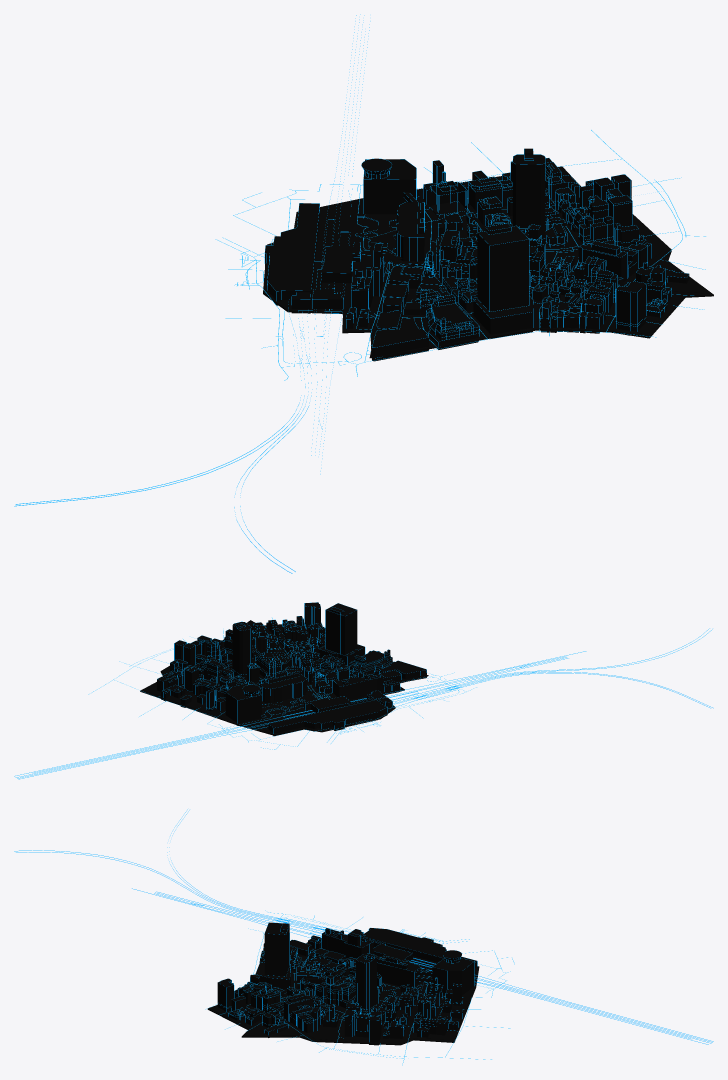
File: Kashiwa_3Dmap.glb
3 views of the same model, one above another, from view 1: azimuth 30°, elevation 25°; view 2: azimuth 150°, elevation 25°; view 3: azimuth 270°, elevation 25° (orthographic). The views are drawn at different scales.
Visible parts, largest first — view 1: 3D_mesh, plane, 3D_wier, Ways:highway, main_street, Ways:railway, space, deck01; view 2: 3D_mesh, Ways:railway, 3D_wier, plane, Ways:highway, deck01, space, main_street; view 3: 3D_mesh, Ways:railway, 3D_wier, plane, main_street, Ways:highway, space.
Boxes of the visible parts, bbox=[...] form: 3D_mesh: bbox=[265, 148, 689, 361]; plane: bbox=[263, 166, 713, 359]; 3D_wier: bbox=[264, 149, 688, 358]; Ways:highway: bbox=[215, 130, 705, 380]; main_street: bbox=[369, 174, 707, 357]; Ways:railway: bbox=[14, 14, 370, 573]; space: bbox=[370, 177, 707, 358]; deck01: bbox=[355, 213, 426, 276]; 3D_mesh: bbox=[157, 602, 426, 736]; Ways:railway: bbox=[14, 628, 713, 779]; 3D_wier: bbox=[157, 602, 426, 733]; plane: bbox=[140, 620, 427, 735]; Ways:highway: bbox=[88, 618, 476, 749]; deck01: bbox=[261, 690, 336, 717]; space: bbox=[149, 623, 428, 714]; main_street: bbox=[146, 621, 428, 714]; 3D_mesh: bbox=[217, 922, 477, 1045]; Ways:railway: bbox=[14, 809, 713, 1044]; 3D_wier: bbox=[220, 922, 477, 1041]; plane: bbox=[207, 942, 479, 1045]; main_street: bbox=[211, 952, 466, 1043]; Ways:highway: bbox=[205, 910, 514, 1065]; space: bbox=[214, 955, 464, 1043].
Size of the model in its own units: 1047 by 111 by 1206.
